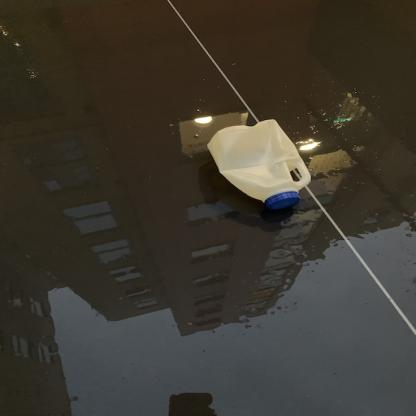trash: (202, 120, 314, 212)
